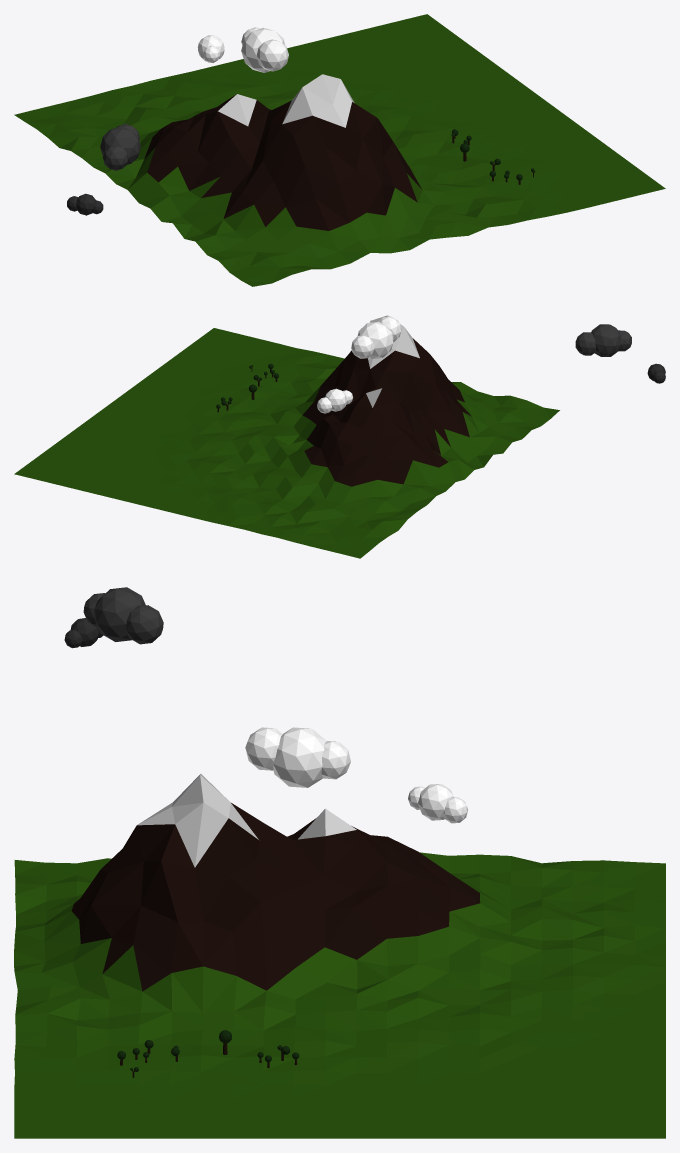
File: BoB.obj
3 views of the same model, one above another, from view 1: azimuth 30°, elevation 25°; view 2: azimuth 150°, elevation 25°; view 3: azimuth 270°, elevation 25° (orthographic). The views are drawn at different scales.
Parts seen in each view (by area): view 1: Plane; view 2: Plane; view 3: Plane.
Boxes of the visible parts, left/top/right/bottom form: Plane: left=14, top=14, right=665, bottom=286; Plane: left=14, top=315, right=665, bottom=558; Plane: left=14, top=587, right=665, bottom=1138.
Size of the model in its own units: 19.3 by 5.04 by 14.05.
